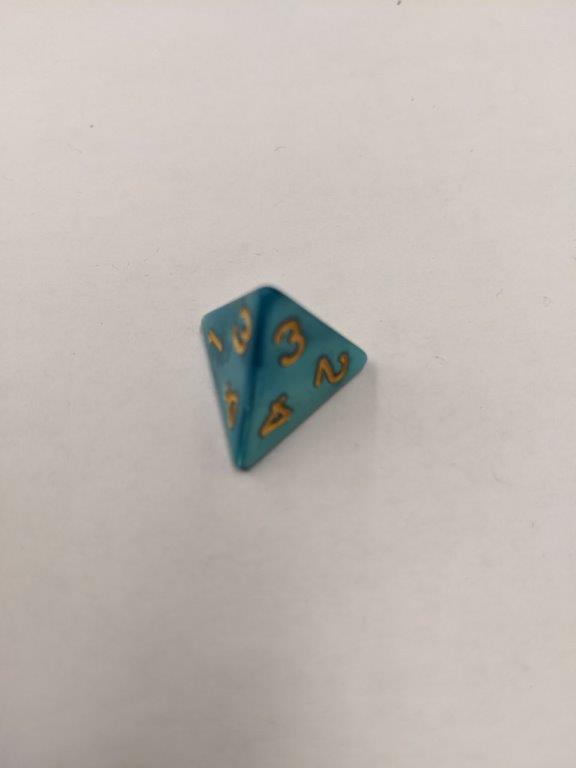d4-3: (194, 283, 372, 477)
